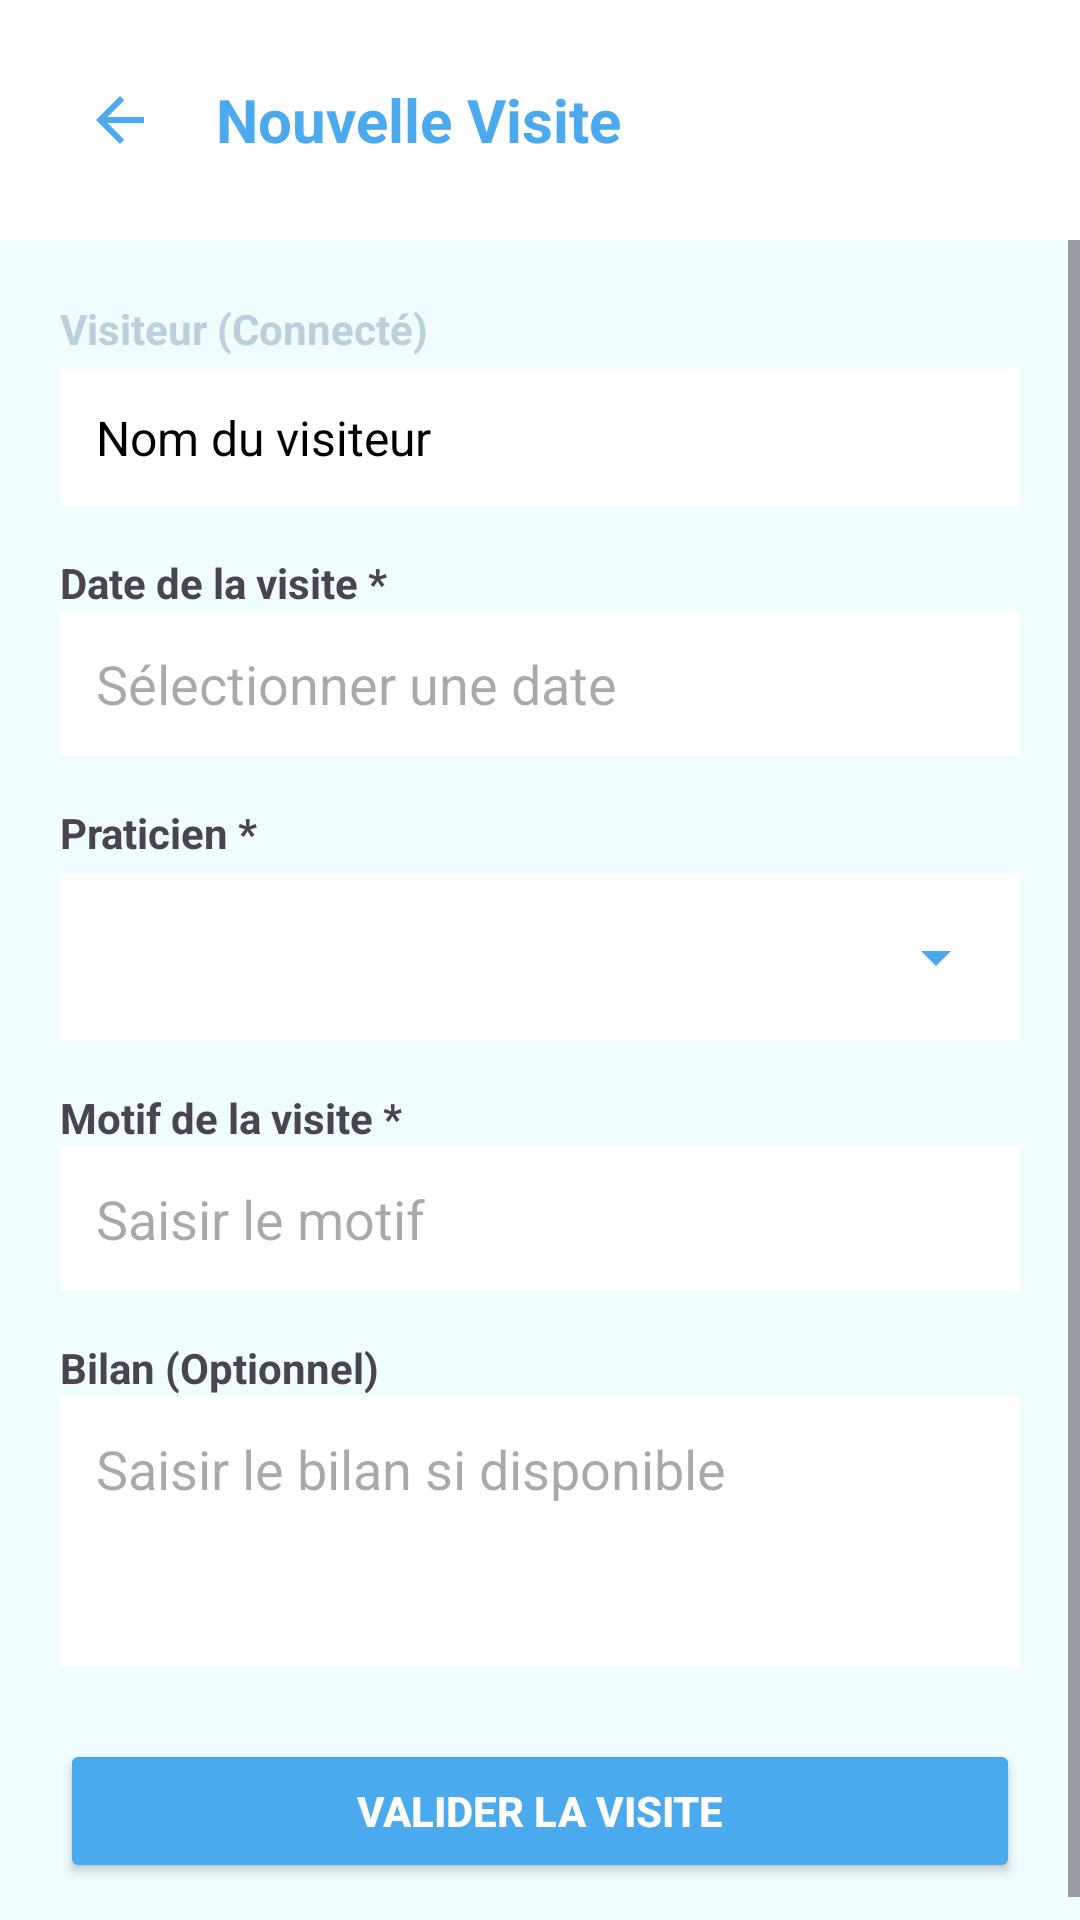

Icons on this 1080 x 1920 Android screen, each with the point to tap as (x=x, y=y):
Retour: (x=120, y=120)
